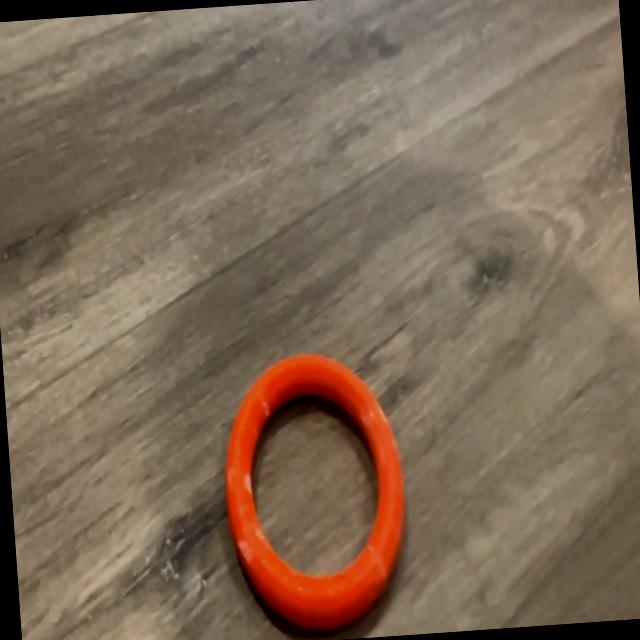note: (216, 343, 413, 640)
